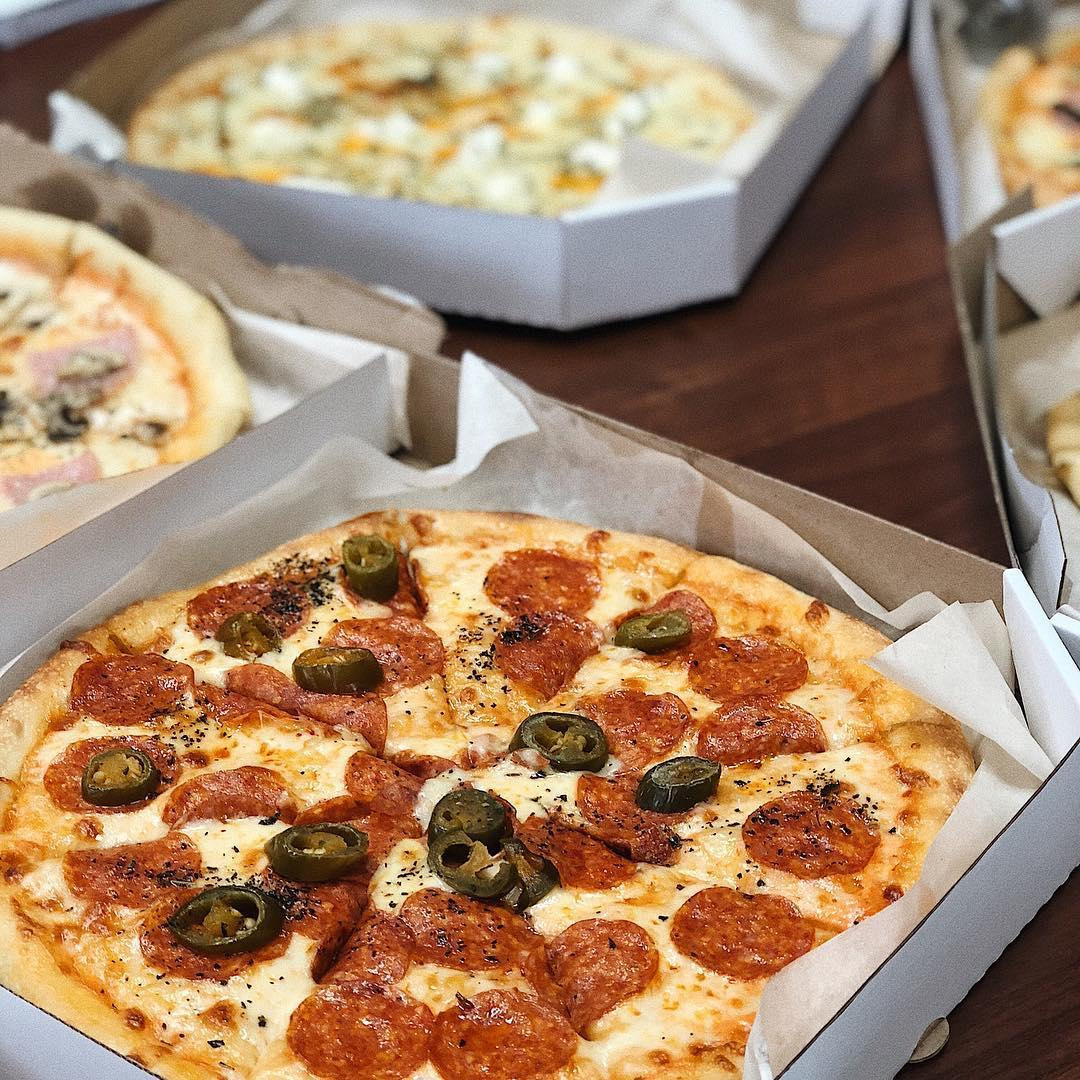Pepperoni: (6, 519, 977, 1073), (677, 885, 820, 978), (287, 986, 430, 1074), (747, 783, 876, 880), (438, 991, 575, 1080), (543, 919, 659, 1017), (300, 893, 407, 983), (410, 895, 531, 973), (69, 649, 194, 721), (580, 686, 691, 765), (697, 697, 827, 762), (487, 545, 603, 613), (496, 618, 600, 691), (694, 633, 813, 694), (524, 820, 633, 886), (187, 577, 301, 640), (353, 620, 447, 682), (75, 844, 198, 890), (176, 773, 287, 815), (206, 665, 286, 723), (300, 692, 387, 743), (573, 775, 638, 826)
Peppers: (424, 831, 562, 903), (168, 885, 285, 950), (267, 819, 368, 881), (510, 710, 609, 771), (641, 754, 723, 812), (82, 747, 161, 805), (338, 531, 401, 601), (432, 786, 510, 840), (296, 645, 382, 691), (613, 607, 689, 648), (219, 611, 279, 659)
Pizza: (145, 33, 783, 191), (3, 210, 245, 497), (990, 13, 1080, 211)
